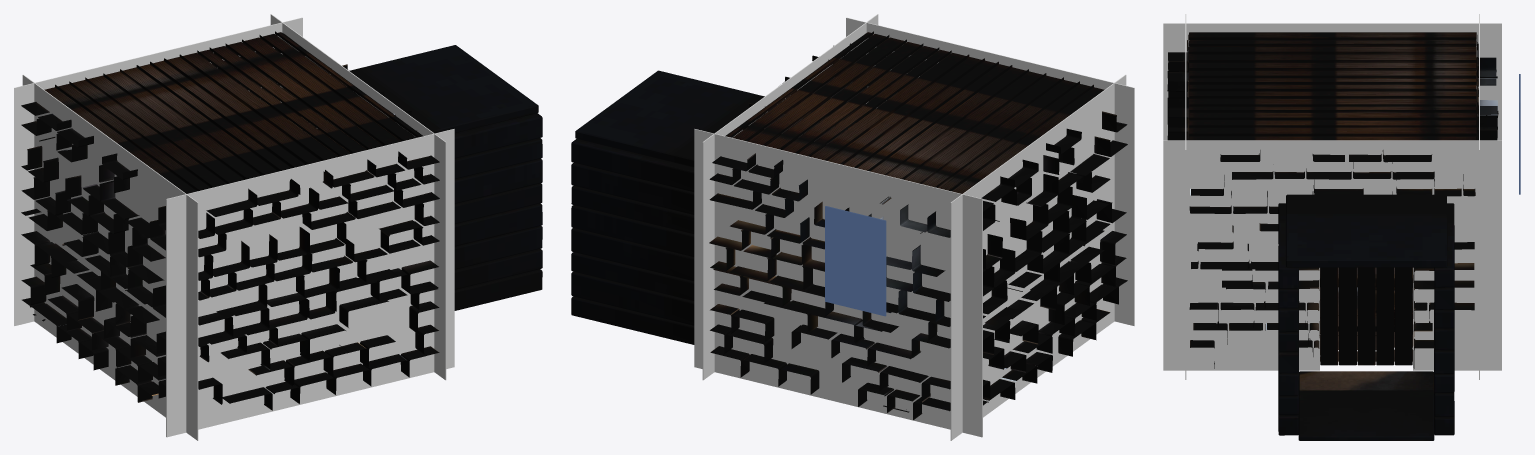
The model's file is cell.glb.
The picture shows the model from 3 angles, left to right: view 1: azimuth 30°, elevation 25°; view 2: azimuth 150°, elevation 25°; view 3: azimuth 270°, elevation 25°; orthographic projection. The views are drawn at different scales.
Visible parts, largest first — view 1: flat_mortar_walls, walls, ceiling, corridor; view 2: flat_mortar_walls, walls, ceiling, corridor, emit_sky; view 3: flat_mortar_walls, ceiling, corridor, walls, door, floor.
Part boxes in pixels (<box>): flat_mortar_walls: <box>14,14,454,440</box>; walls: <box>21,33,439,410</box>; ceiling: <box>44,31,422,193</box>; corridor: <box>349,45,542,310</box>; flat_mortar_walls: <box>694,14,1134,440</box>; walls: <box>709,35,1127,419</box>; ceiling: <box>726,31,1104,193</box>; corridor: <box>571,70,764,344</box>; emit_sky: <box>825,206,886,316</box>; flat_mortar_walls: <box>1163,14,1501,379</box>; ceiling: <box>1189,32,1476,140</box>; corridor: <box>1278,194,1454,440</box>; walls: <box>1167,34,1498,368</box>; door: <box>1320,267,1412,365</box>; floor: <box>1320,267,1412,361</box>.
Size of the model in its own units: 5.6 by 3 by 4.22.
Materials: 13 (9 with a texture image).
